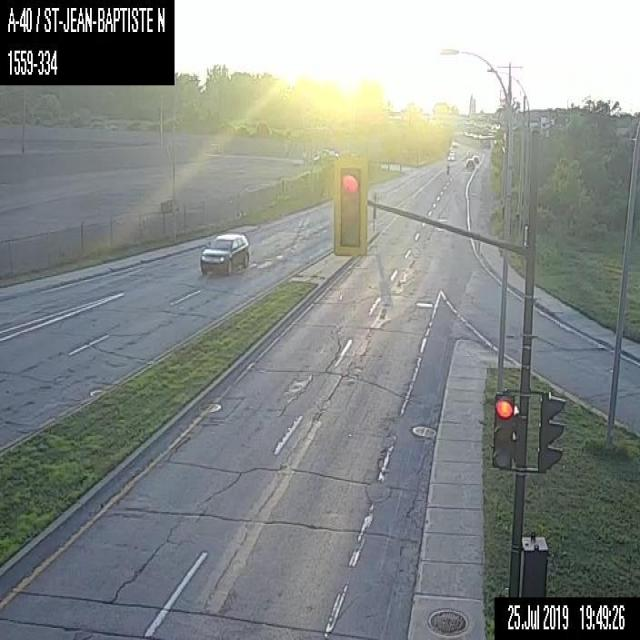vehicle: (198, 231, 249, 276), (464, 158, 474, 169), (446, 151, 456, 160)
